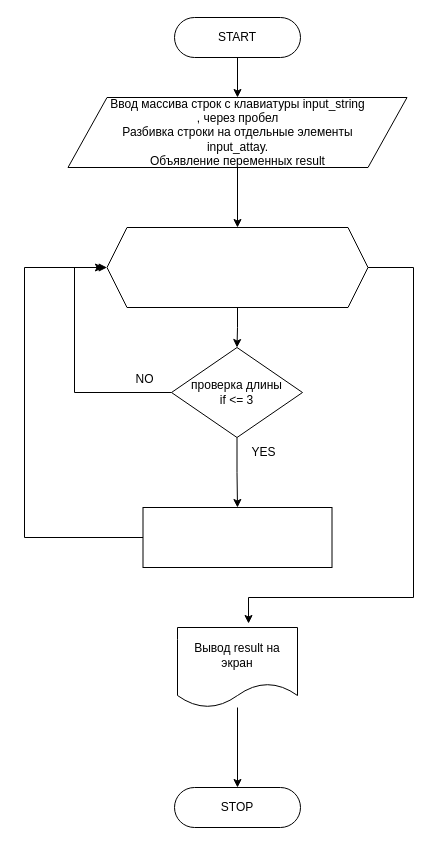
Image size: 439x845. Some labels were removed from this diagram. The centre of each missing label's shape, as x and y in pixels:
добавление элемента в result: pixel 237 537
цикл для проверки всех элементов массива for string in array: pixel 237 267
